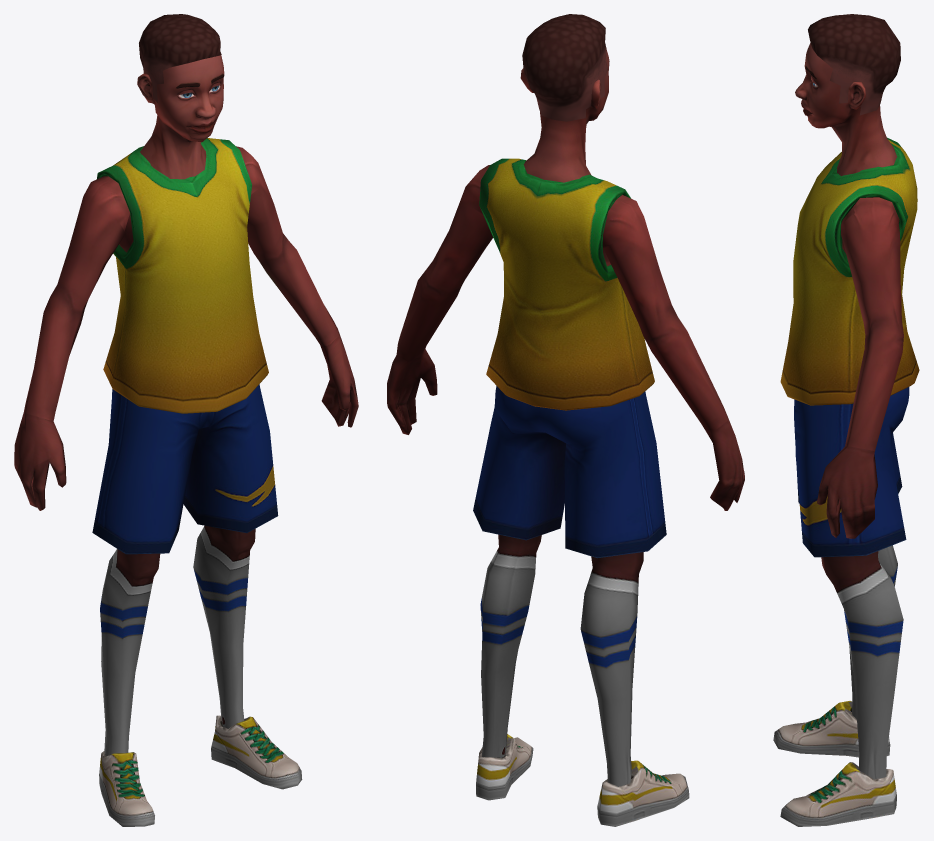
The picture shows the model from 3 angles, left to right: view 1: azimuth 30°, elevation 25°; view 2: azimuth 150°, elevation 25°; view 3: azimuth 270°, elevation 25°; orthographic projection.
Parts seen in each view (by area): view 1: B1_Top001, B1_down001, B1_head001, B1_hair001; view 2: B1_Top001, B1_down001, B1_hair001, B1_head001; view 3: B1_Top001, B1_down001, B1_hair001, B1_head001.
Boxes of the visible parts, x1,y1,x2,y2 form: B1_Top001: (14,138,358,510); B1_down001: (92,384,302,826); B1_head001: (137,55,224,179); B1_hair001: (139,14,221,102); B1_Top001: (387,158,744,510); B1_down001: (473,386,689,826); B1_hair001: (522,14,607,121); B1_head001: (520,50,609,182); B1_Top001: (780,137,919,538); B1_down001: (773,387,909,826); B1_hair001: (808,14,900,115); B1_head001: (795,43,897,176).
Size of the model in its own units: 0.7704 by 1.67 by 0.2892.
4 materials, 4 textured.
